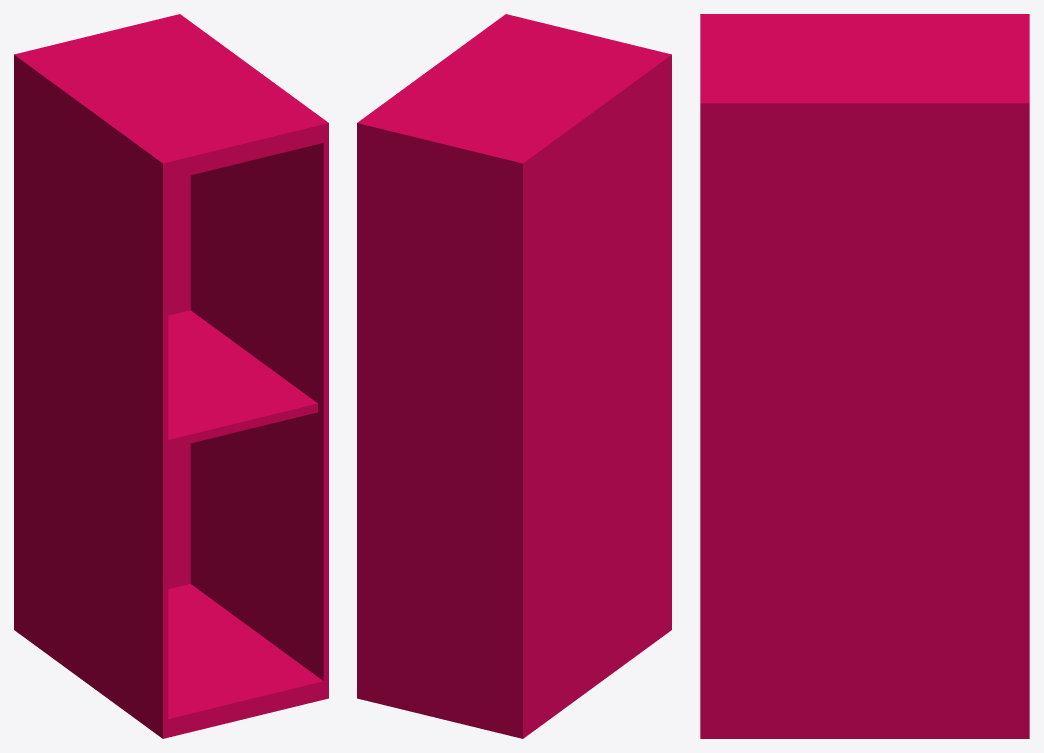
Rendered from Kitchen_Cupboard_14_Lod0.fbx.
3 views of the same model, side by side, from view 1: azimuth 30°, elevation 25°; view 2: azimuth 150°, elevation 25°; view 3: azimuth 270°, elevation 25° (orthographic). The views are drawn at different scales.
Visible parts, largest first — view 1: Kitchen_Cupboard_14_Lod0; view 2: Kitchen_Cupboard_14_Lod0; view 3: Kitchen_Cupboard_14_Lod0.
Boxes of the visible parts, x1,y1,x2,y2 form: Kitchen_Cupboard_14_Lod0: (14, 14, 328, 738); Kitchen_Cupboard_14_Lod0: (357, 14, 671, 738); Kitchen_Cupboard_14_Lod0: (700, 14, 1029, 738).
Bounding box in the file's own units: 34.39 × 114 × 53.43.
